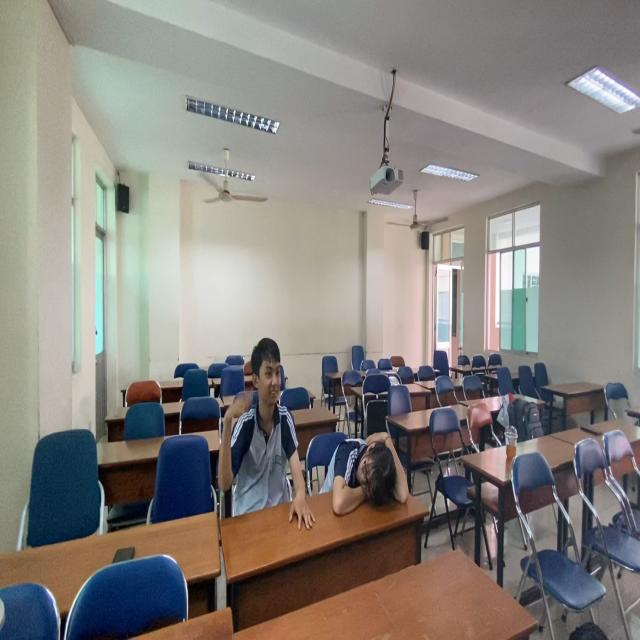sleep: (321, 422, 417, 518)
